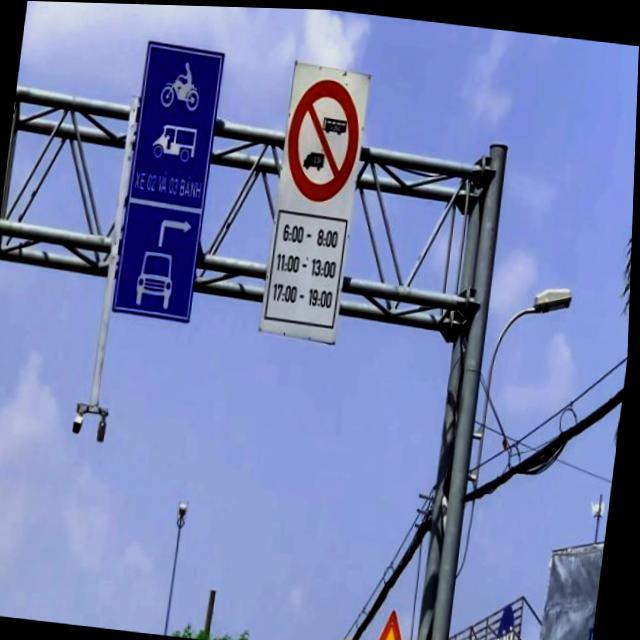Chieu cao an toan: (356, 599, 435, 640)
